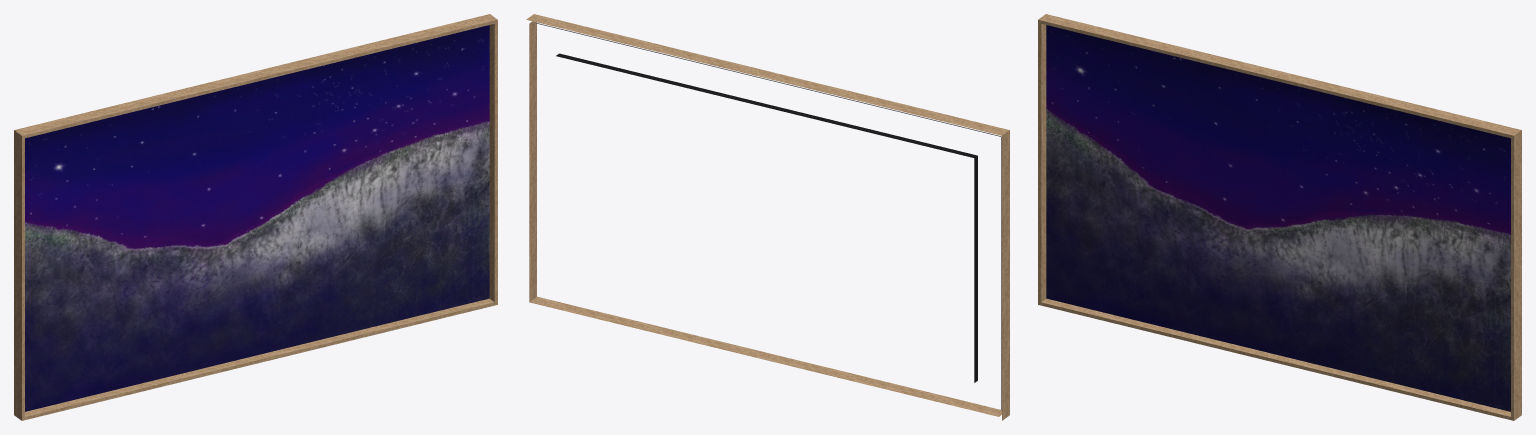
The model's file is hz029_grand_caisse-chene.glb.
3 views of the same model, side by side, from view 1: azimuth 30°, elevation 25°; view 2: azimuth 150°, elevation 25°; view 3: azimuth 330°, elevation 25° (orthographic).
Visible parts, largest first — view 1: hz029_grand_caisse-chene; view 2: hz029_grand_caisse-chene; view 3: hz029_grand_caisse-chene.
Boxes of the visible parts, x1,y1,x2,y2 form: hz029_grand_caisse-chene: (14, 14, 497, 420); hz029_grand_caisse-chene: (526, 14, 1009, 420); hz029_grand_caisse-chene: (1038, 14, 1521, 420).
Size of the model in its own units: 1.23 by 0.703 by 0.035.
4 materials, 2 textured.
